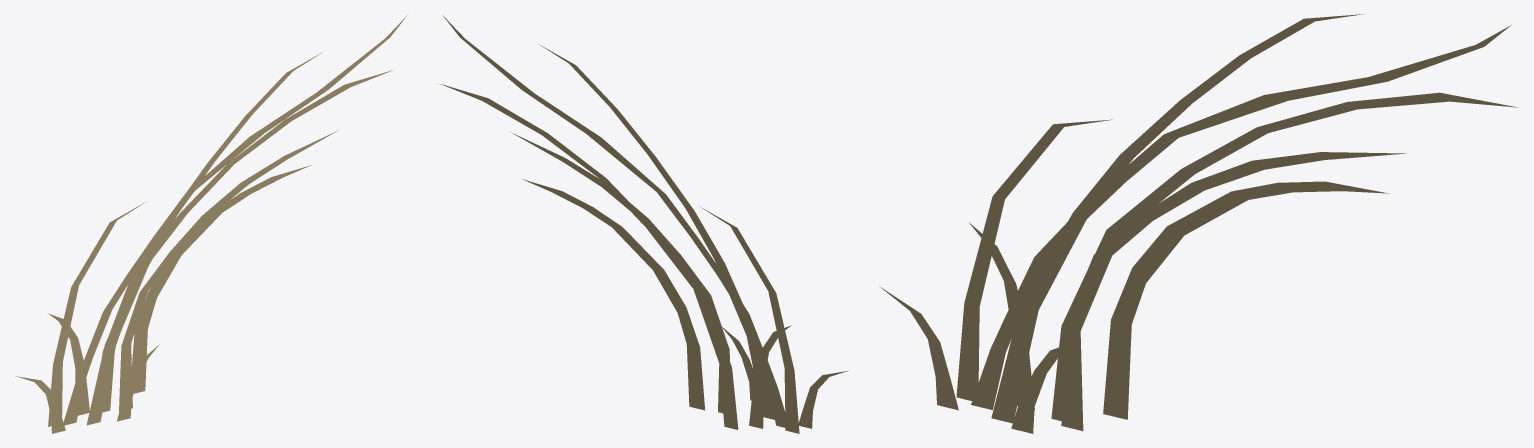
Rendered from LongGrass1.fbx.
3 views of the same model, side by side, from view 1: azimuth 30°, elevation 25°; view 2: azimuth 150°, elevation 25°; view 3: azimuth 330°, elevation 25° (orthographic). The views are drawn at different scales.
Parts seen in each view (by area): view 1: Plane004, Plane002, Plane008, Plane010, Plane006, Plane001, Plane009, Plane007, Plane005; view 2: Plane006, Plane002, Plane010, Plane004, Plane001, Plane008, Plane009, Plane005, Plane007; view 3: Plane004, Plane002, Plane010, Plane008, Plane006, Plane001, Plane005, Plane007, Plane009.
Part boxes in pixels (<box>): Plane004: <box>86,52,322,425</box>; Plane002: <box>63,15,407,425</box>; Plane008: <box>119,131,336,411</box>; Plane010: <box>132,165,311,393</box>; Plane006: <box>102,70,393,412</box>; Plane001: <box>48,201,146,426</box>; Plane009: <box>48,313,89,415</box>; Plane007: <box>116,344,159,421</box>; Plane005: <box>15,376,65,433</box>; Plane006: <box>439,83,738,429</box>; Plane002: <box>442,15,785,427</box>; Plane010: <box>522,179,705,410</box>; Plane004: <box>539,44,774,419</box>; Plane001: <box>701,207,799,433</box>; Plane008: <box>509,131,729,413</box>; Plane009: <box>749,325,791,428</box>; Plane005: <box>798,370,848,428</box>; Plane007: <box>722,327,754,400</box>; Plane004: <box>991,14,1363,423</box>; Plane002: <box>971,25,1511,409</box>; Plane010: <box>1103,181,1388,419</box>; Plane008: <box>1061,152,1406,430</box>; Plane006: <box>1051,92,1517,421</box>; Plane001: <box>956,119,1112,400</box>; Plane005: <box>879,286,958,410</box>; Plane007: <box>1011,340,1078,433</box>; Plane009: <box>969,222,1034,409</box>.
Size of the model in its own units: 71.12 by 56.53 by 7.11.
